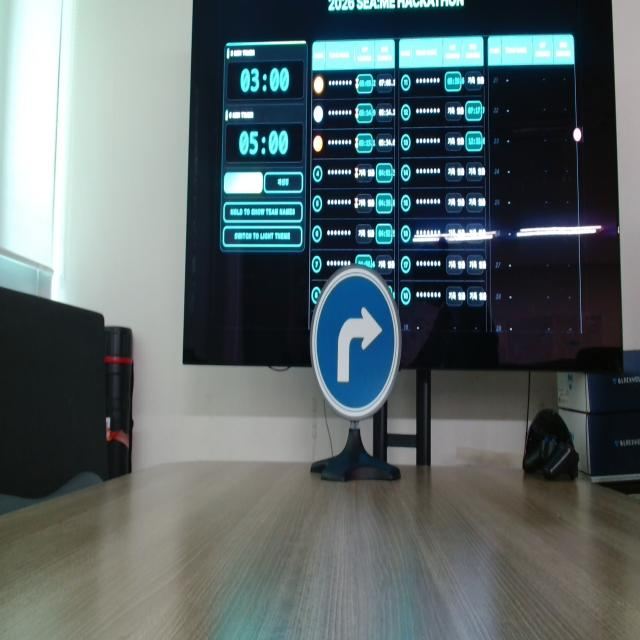right_dierection: (311, 250, 410, 451)
